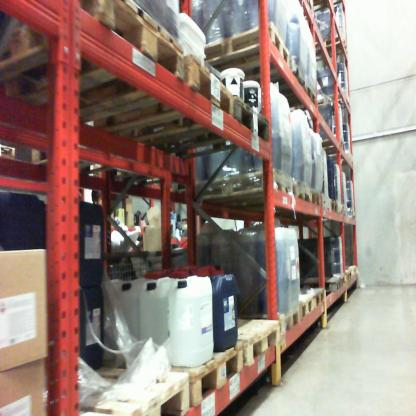pallet: (3, 3, 187, 138), (29, 54, 235, 170), (94, 342, 246, 404), (145, 97, 272, 157), (201, 18, 290, 87), (194, 167, 299, 220), (68, 371, 190, 414), (216, 294, 306, 336), (228, 59, 306, 105), (215, 319, 286, 369), (305, 30, 357, 71), (311, 135, 349, 163), (300, 272, 347, 293), (299, 289, 320, 324), (289, 182, 314, 211), (312, 281, 330, 310), (297, 96, 323, 116), (320, 190, 337, 216), (310, 192, 326, 213), (346, 204, 357, 224), (331, 197, 340, 217), (350, 261, 361, 277), (345, 268, 352, 281)
stillage: (89, 238, 153, 290), (145, 242, 200, 281)
